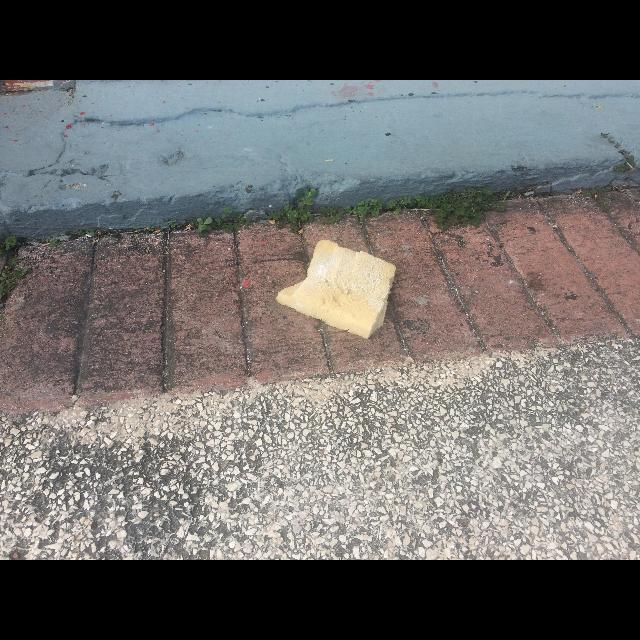Plastic: (276, 240, 396, 338)
